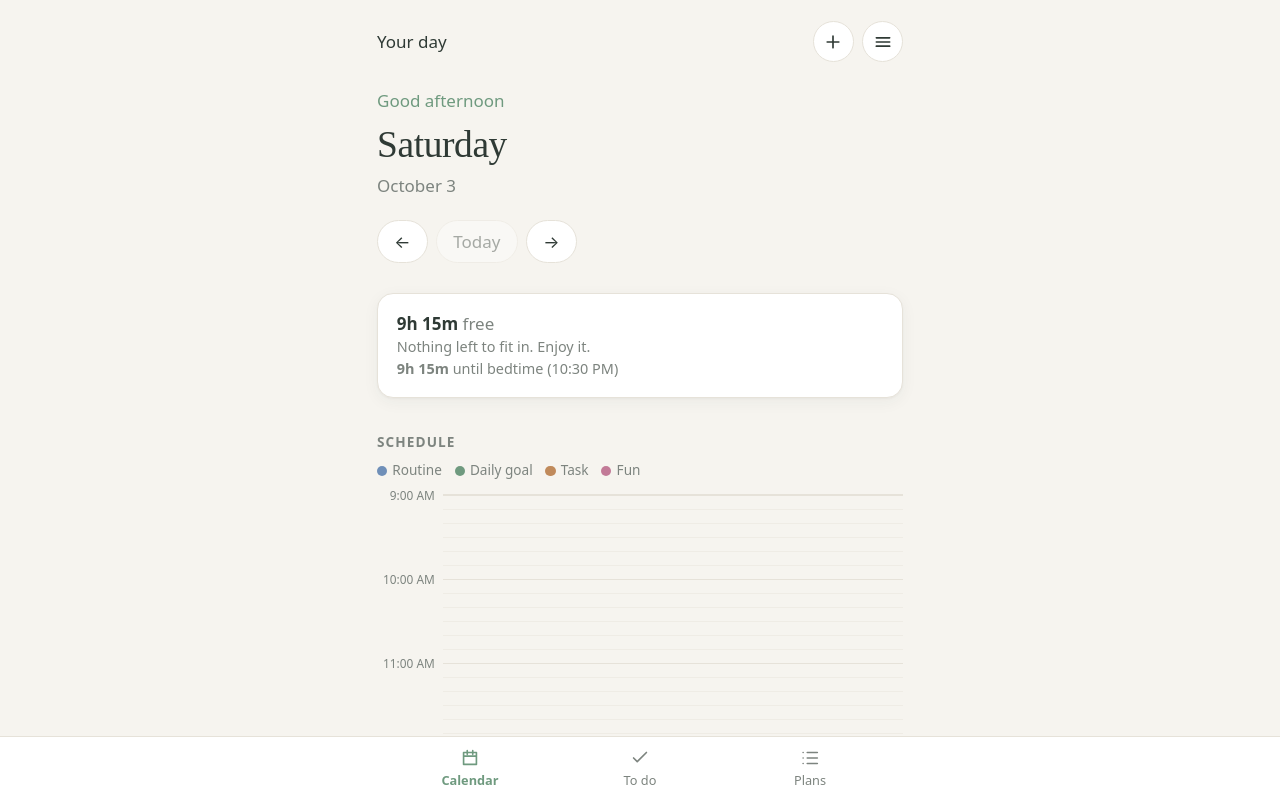
Test: adding and editing › adds a task planned for today with a due date
The width and height of the screenshot is (1280, 800).
Expected: the heading "Saturday" is shown, left=377, top=124, right=507, bottom=165
Click the button named "Add". click: x=833, y=42
box: left=813, top=21, right=854, bottom=62
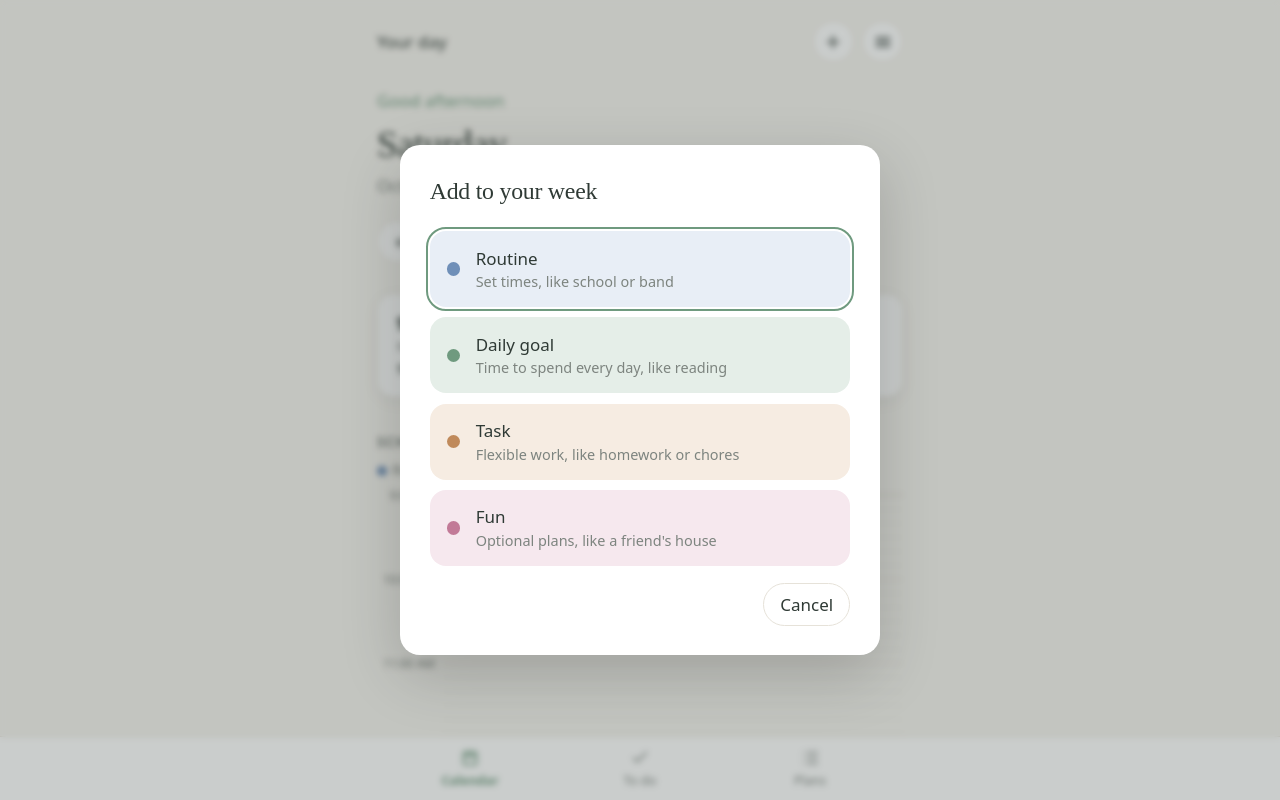
Click the button "Task Flexible work, like homework or chores". click: x=640, y=442
box: left=430, top=404, right=850, bottom=480
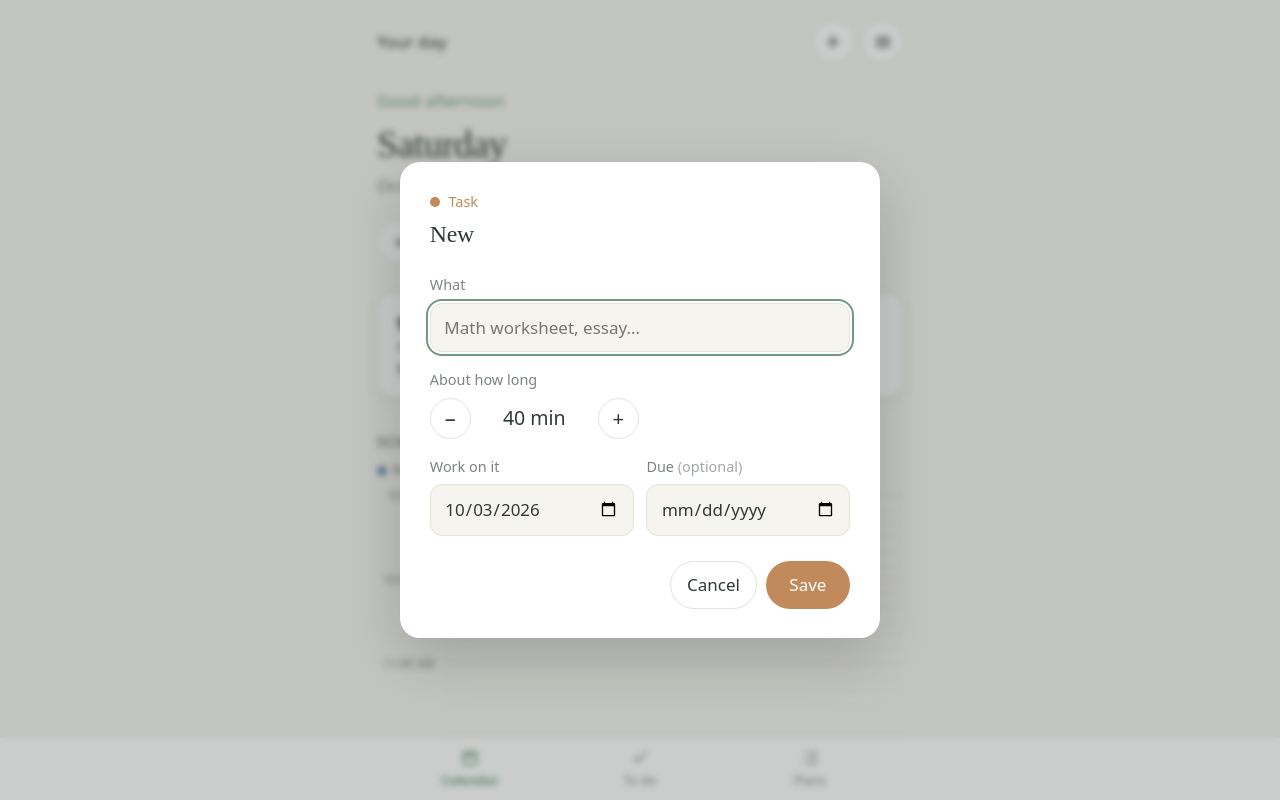
Type "Essay draft" into the field labelled "What". click: x=640, y=328
box: left=430, top=303, right=850, bottom=352
Click the button named "5 minutes more". click: x=618, y=418
box: left=598, top=398, right=639, bottom=438
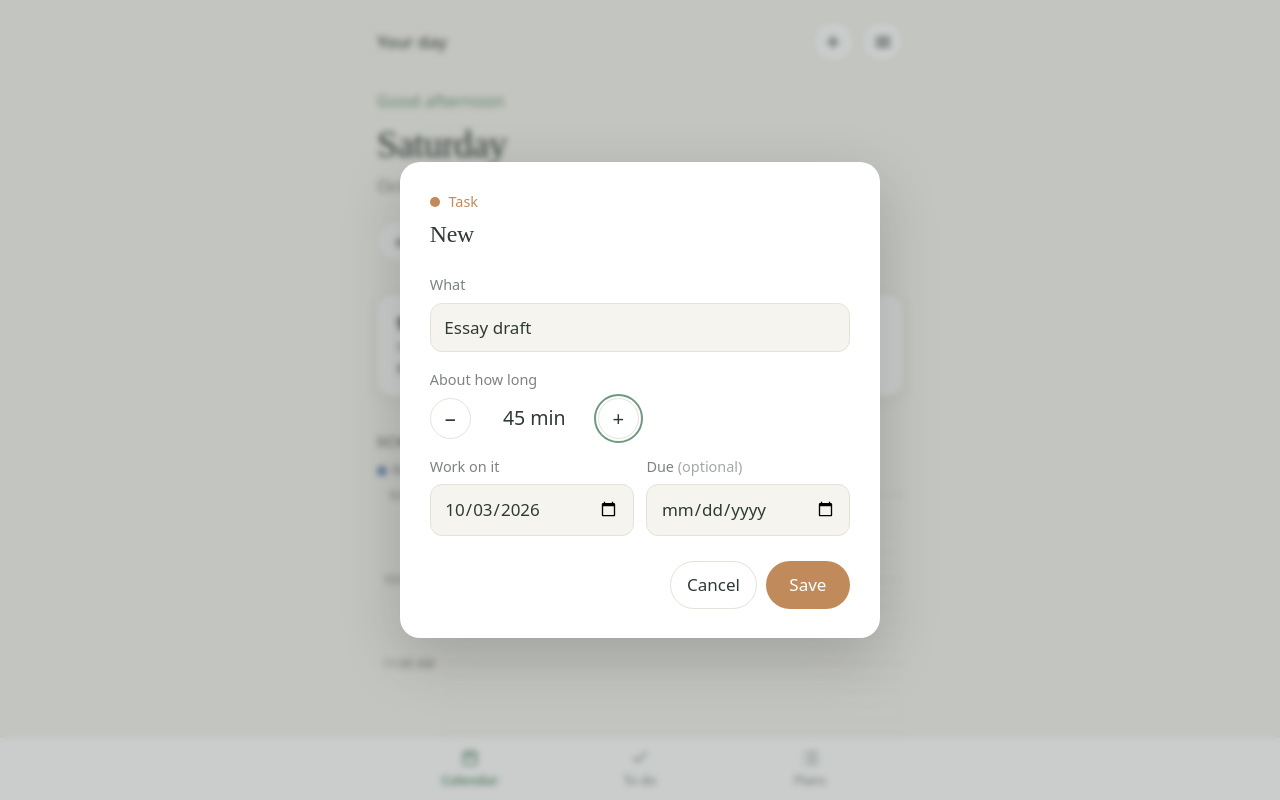
Type "2026-10-05" into the date field labelled "Due (optional)". click: x=748, y=510
box: left=646, top=484, right=850, bottom=536
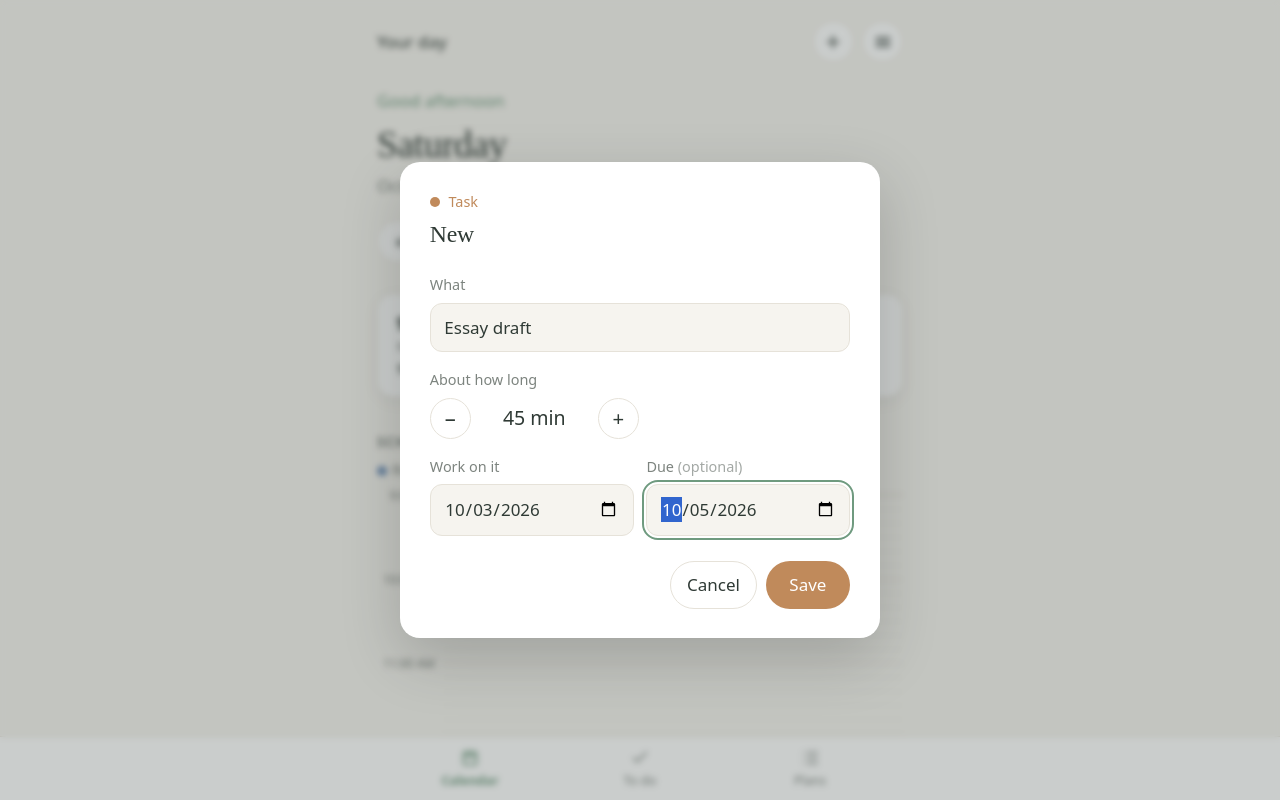
Click the button "Save". click: x=808, y=585
box: left=766, top=561, right=850, bottom=609
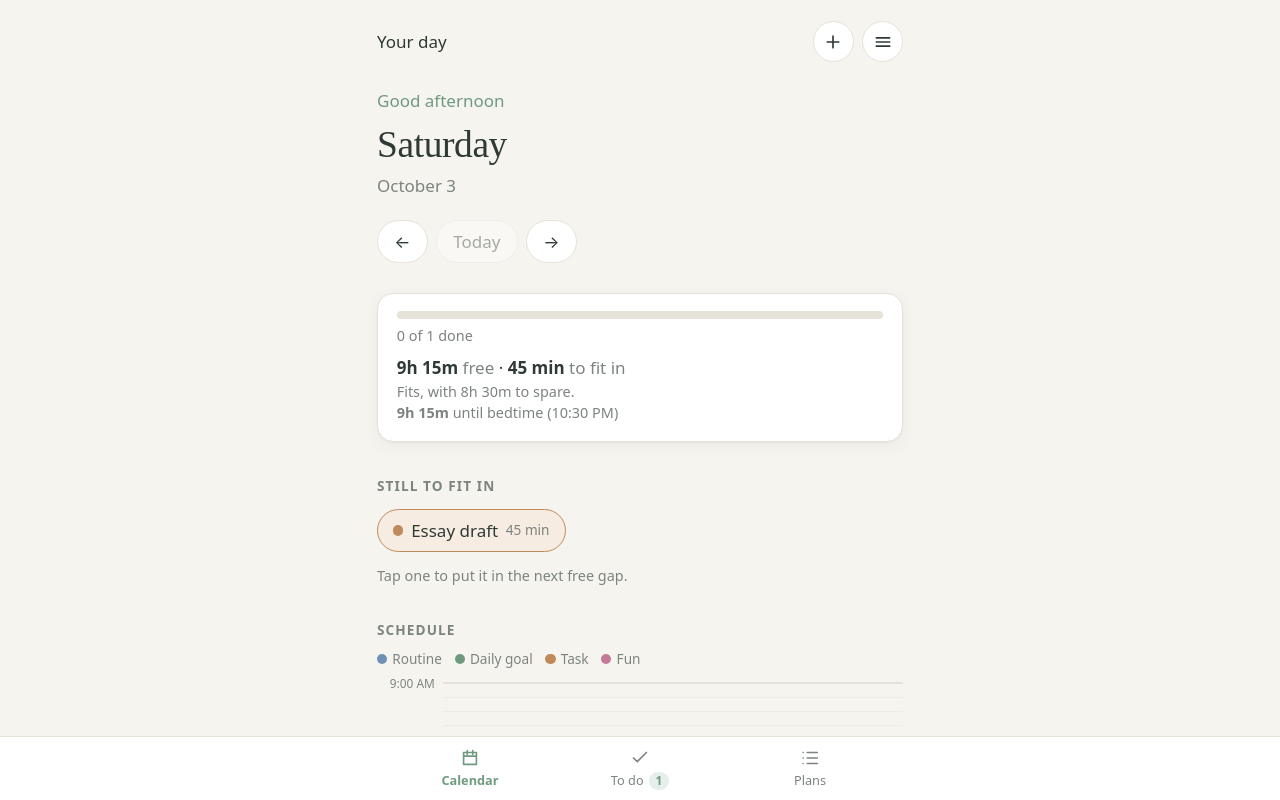
Click the button "To do 1". click: x=640, y=768
box: left=555, top=743, right=725, bottom=794
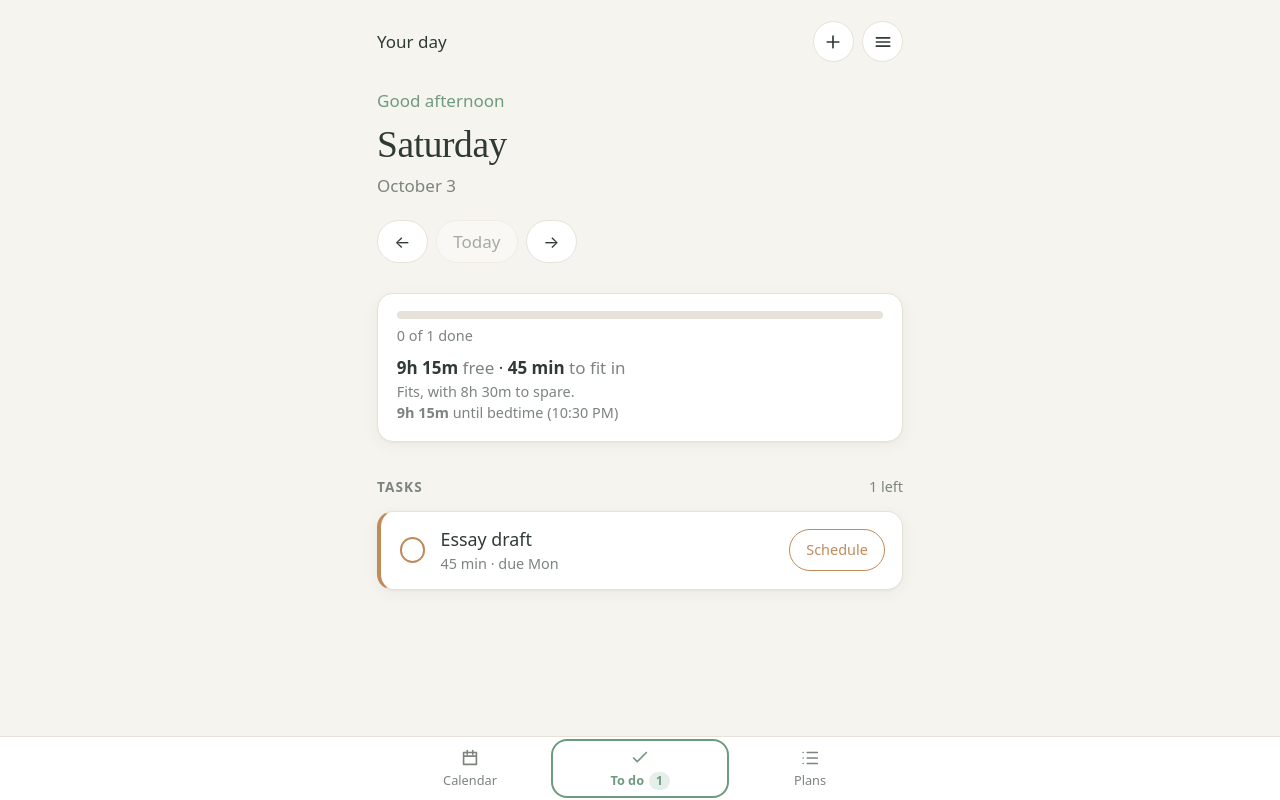
Expected: the text "Essay draft" is shown, left=440, top=526, right=532, bottom=553
Expected: the text "· due Mon" is shown, left=487, top=554, right=559, bottom=573
